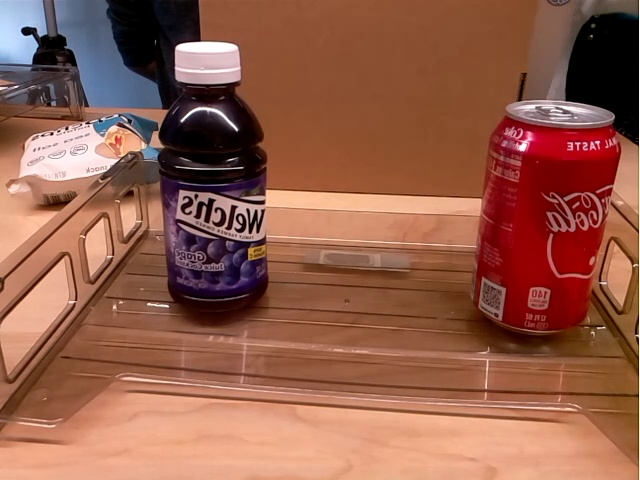cocacola: (470, 97, 624, 340)
juice: (157, 43, 270, 318)
